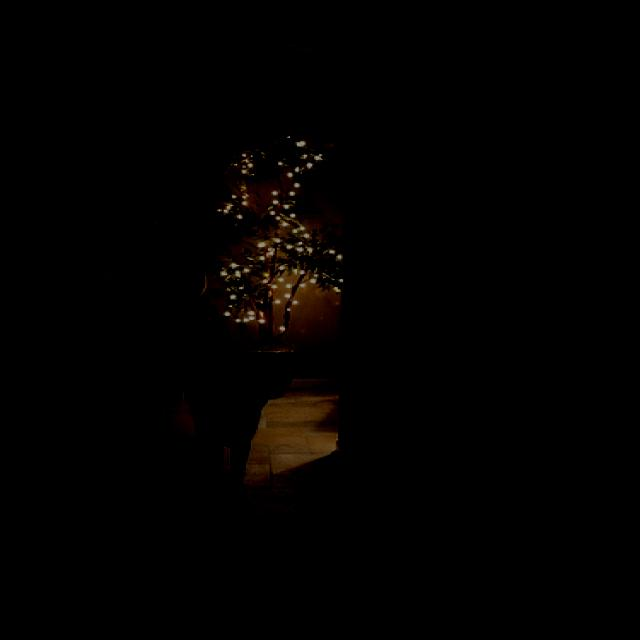Dog: (190, 346, 264, 513)
